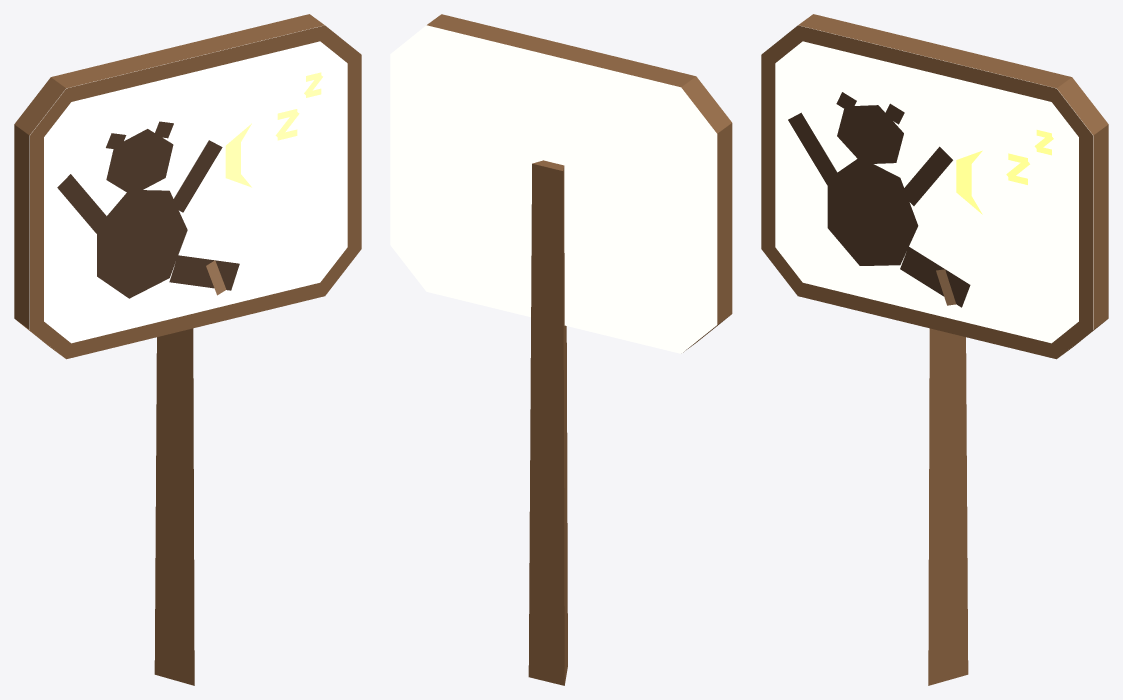
File: sign-whistle-reversed.glb
3 renders of one model, left to right at view 1: azimuth 30°, elevation 25°; view 2: azimuth 150°, elevation 25°; view 3: azimuth 330°, elevation 25°, orthographic.
Visible parts, largest first — view 1: sign-whistle-reversed; view 2: sign-whistle-reversed; view 3: sign-whistle-reversed.
Part boxes in pixels (x1,y1,x2,y2): sign-whistle-reversed: (14, 14, 361, 685); sign-whistle-reversed: (390, 14, 732, 685); sign-whistle-reversed: (761, 14, 1108, 685).
Size of the model in its own units: 1.18 by 2.14 by 0.145.
